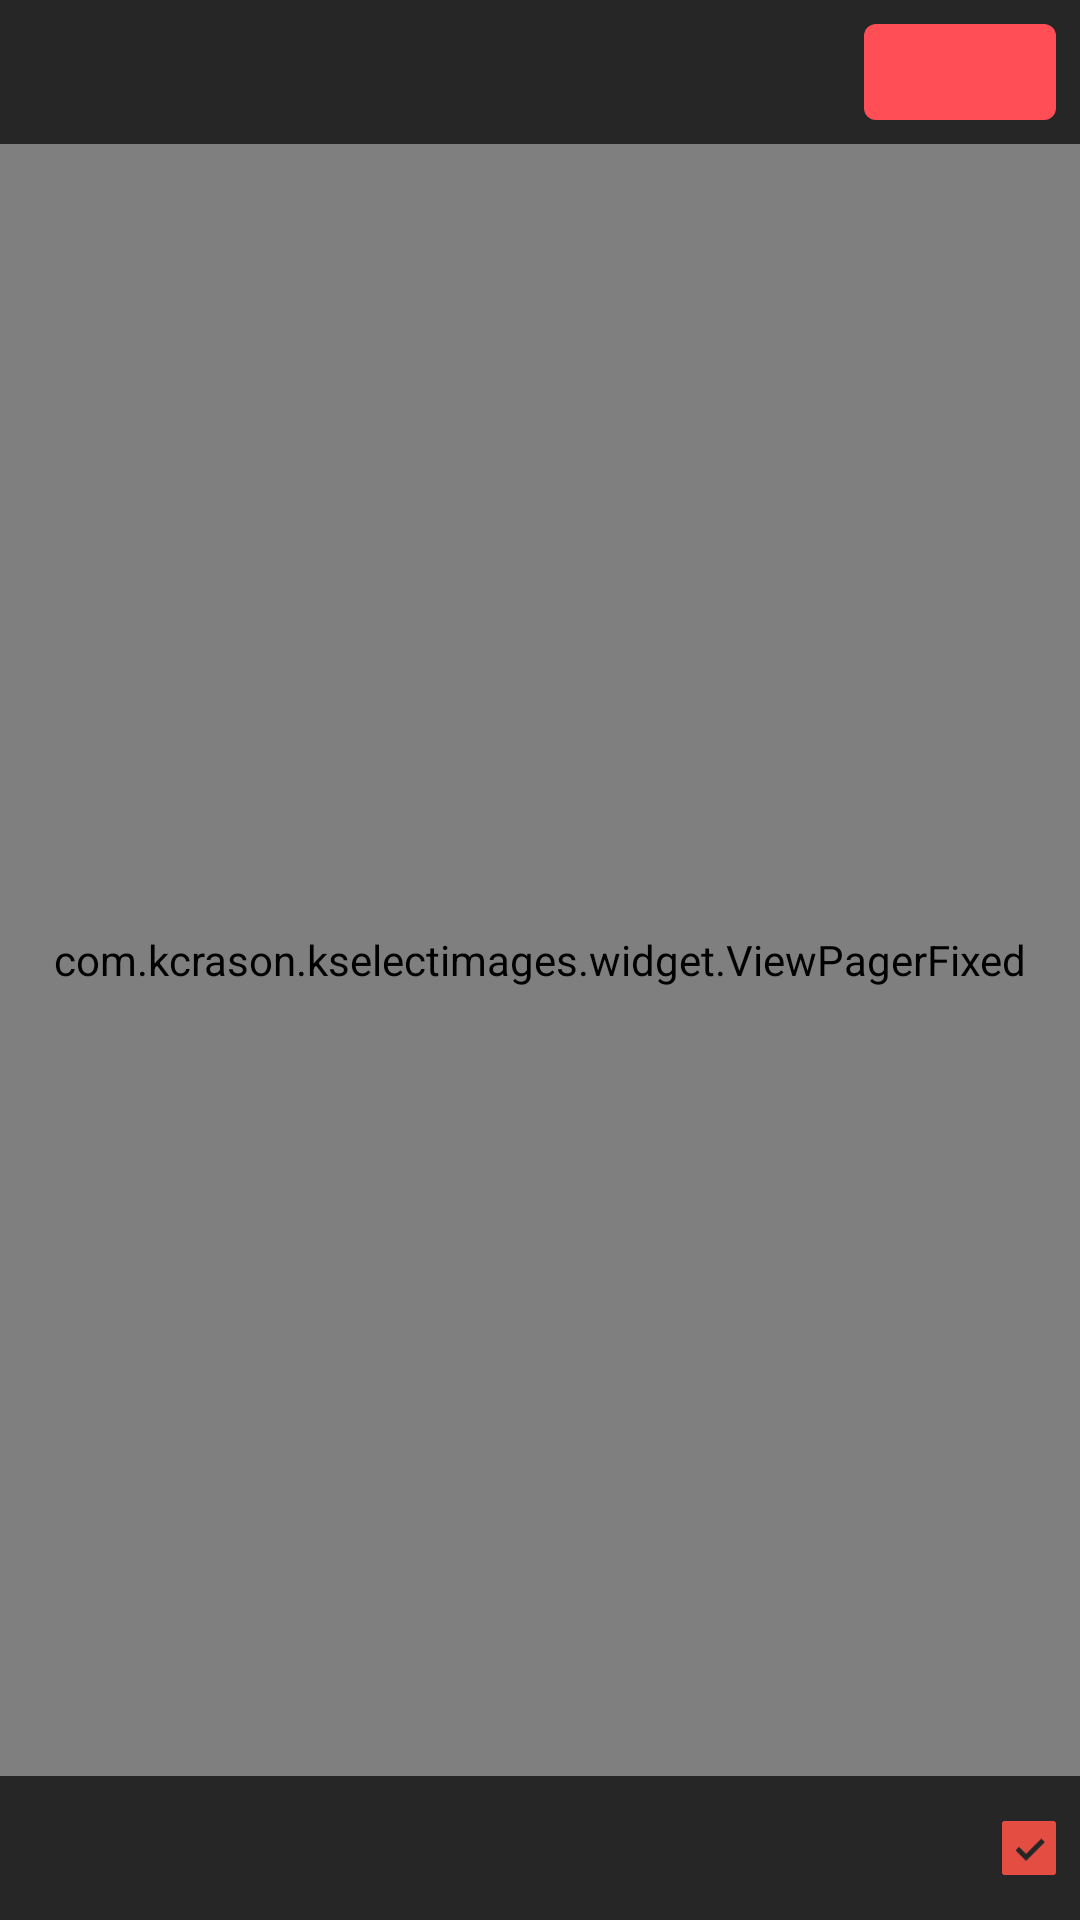

Locate icon controls on the screen. Image size 1080 x 1920, boxes as (x1, y1, x2, y2).
item sel: (1002, 1821, 1056, 1875)
